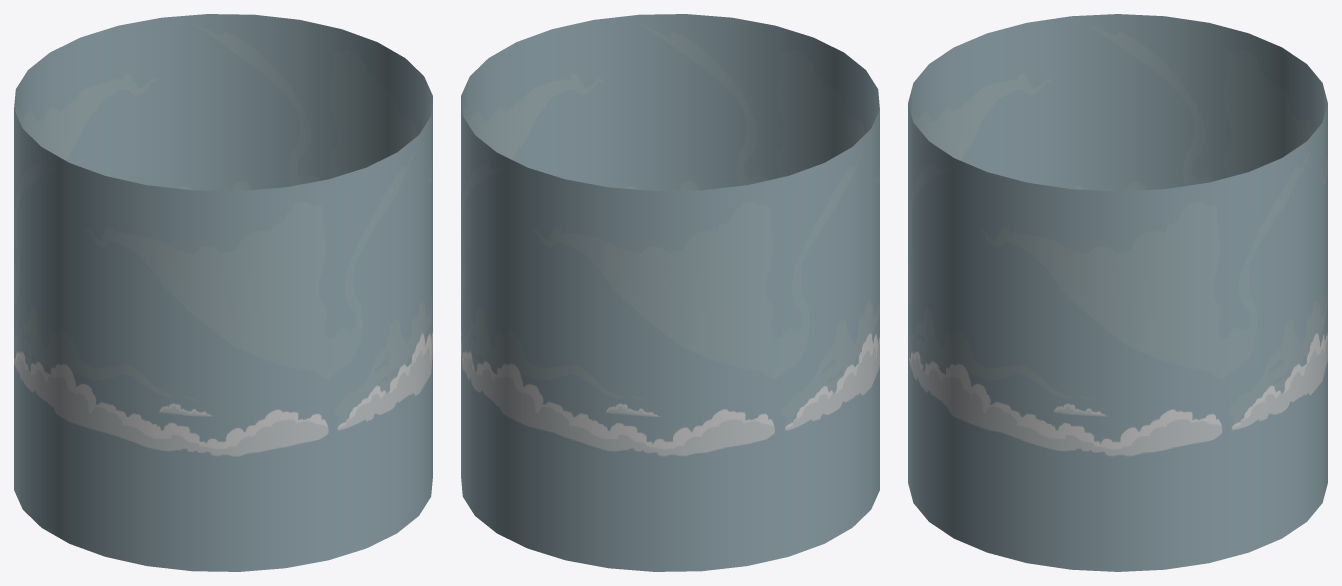
The model's file is SkyBackground.FBX.
3 views of the same model, side by side, from view 1: azimuth 30°, elevation 25°; view 2: azimuth 150°, elevation 25°; view 3: azimuth 270°, elevation 25° (orthographic).
Parts seen in each view (by area): view 1: background; view 2: background; view 3: background.
Part boxes in pixels (bbox=[...]): background: bbox=[14, 14, 432, 571]; background: bbox=[461, 14, 879, 571]; background: bbox=[908, 14, 1327, 571].
Size of the model in its own units: 305 by 305 by 305.
